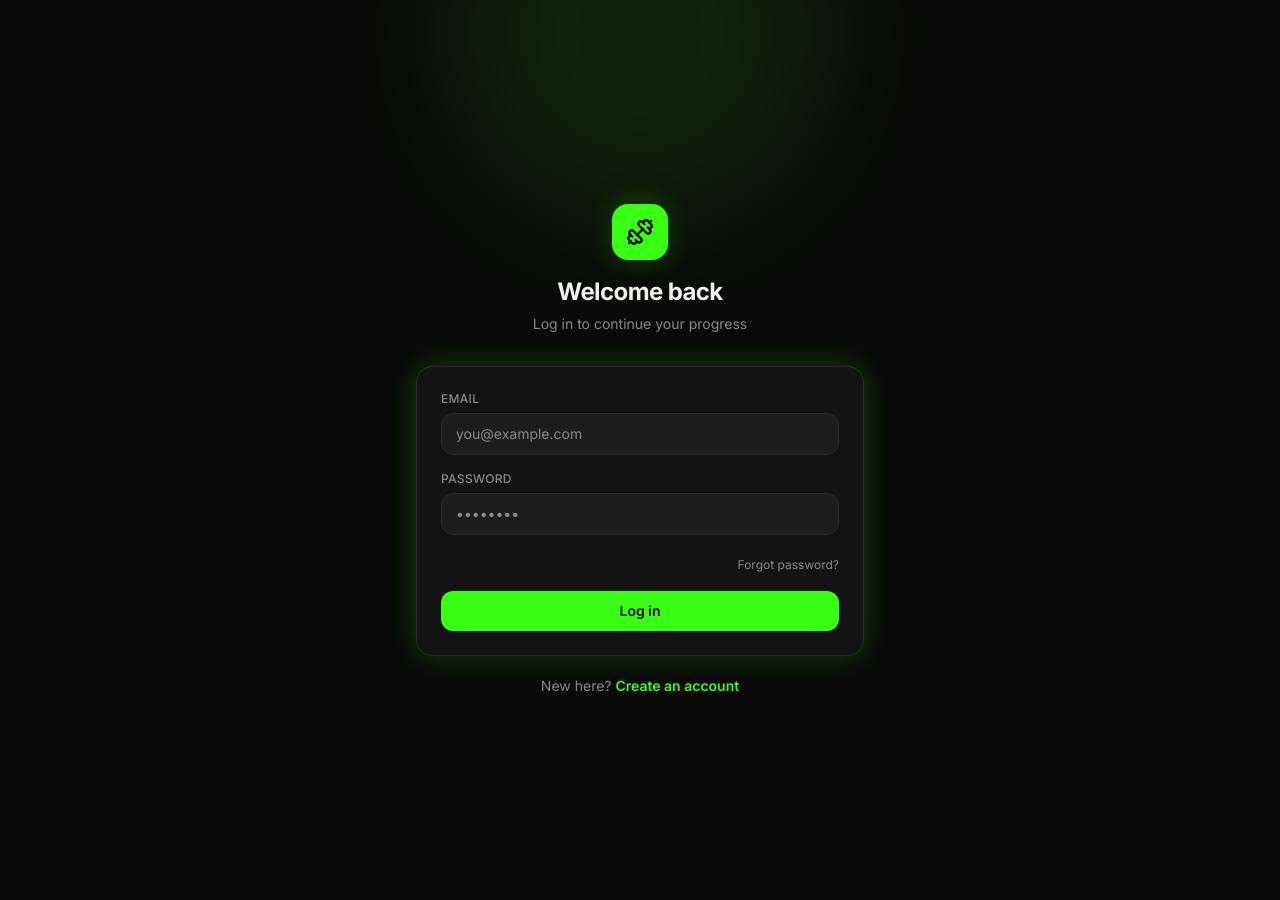
Test case: mutations › logged-out user is redirected to login and can sign in
Type "a@b.com" into the field with placeholder "you@example.com" at (640, 434), box [441,413,839,455]
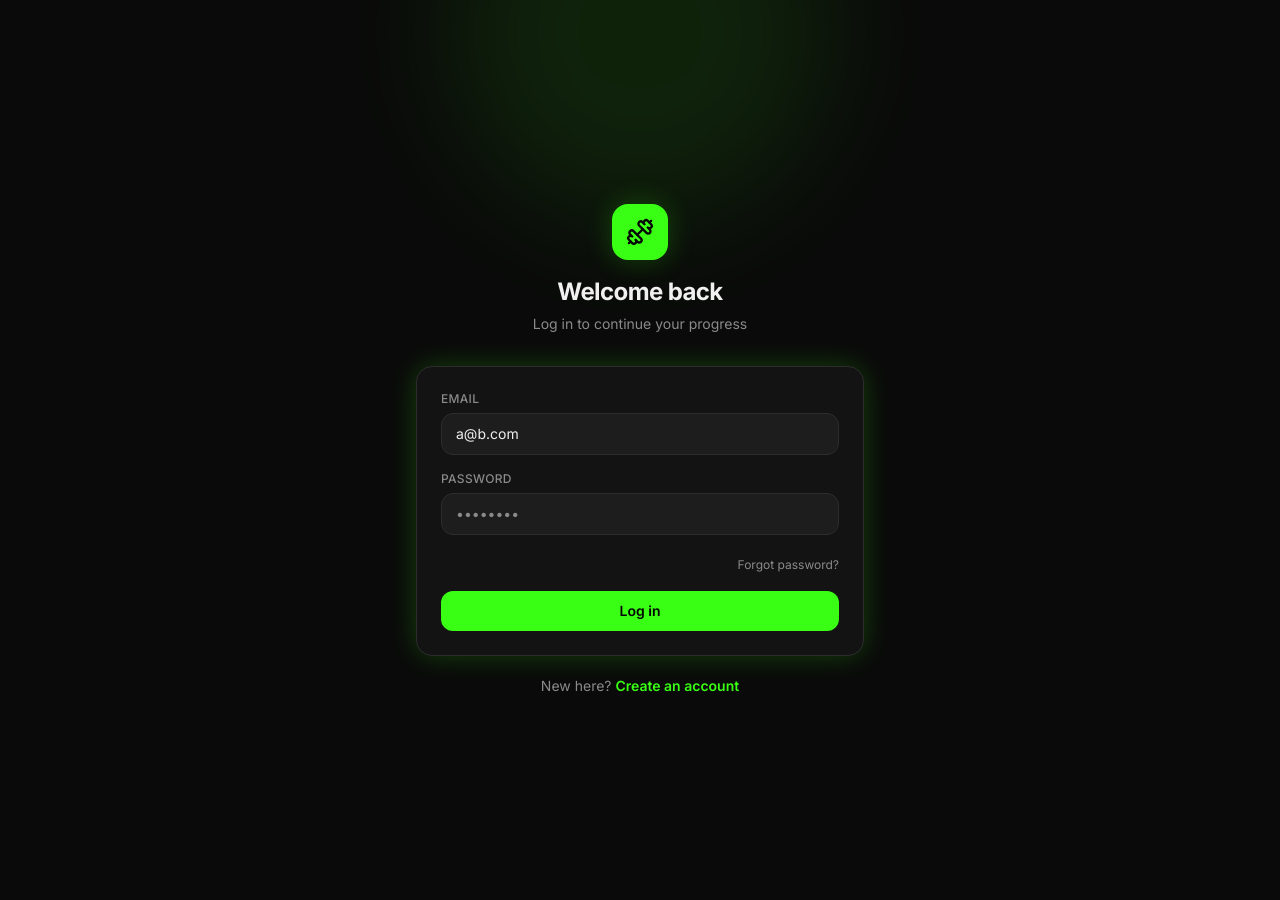
Type "secret123" into the password field with placeholder "••••••••" at (640, 514), box [441,493,839,535]
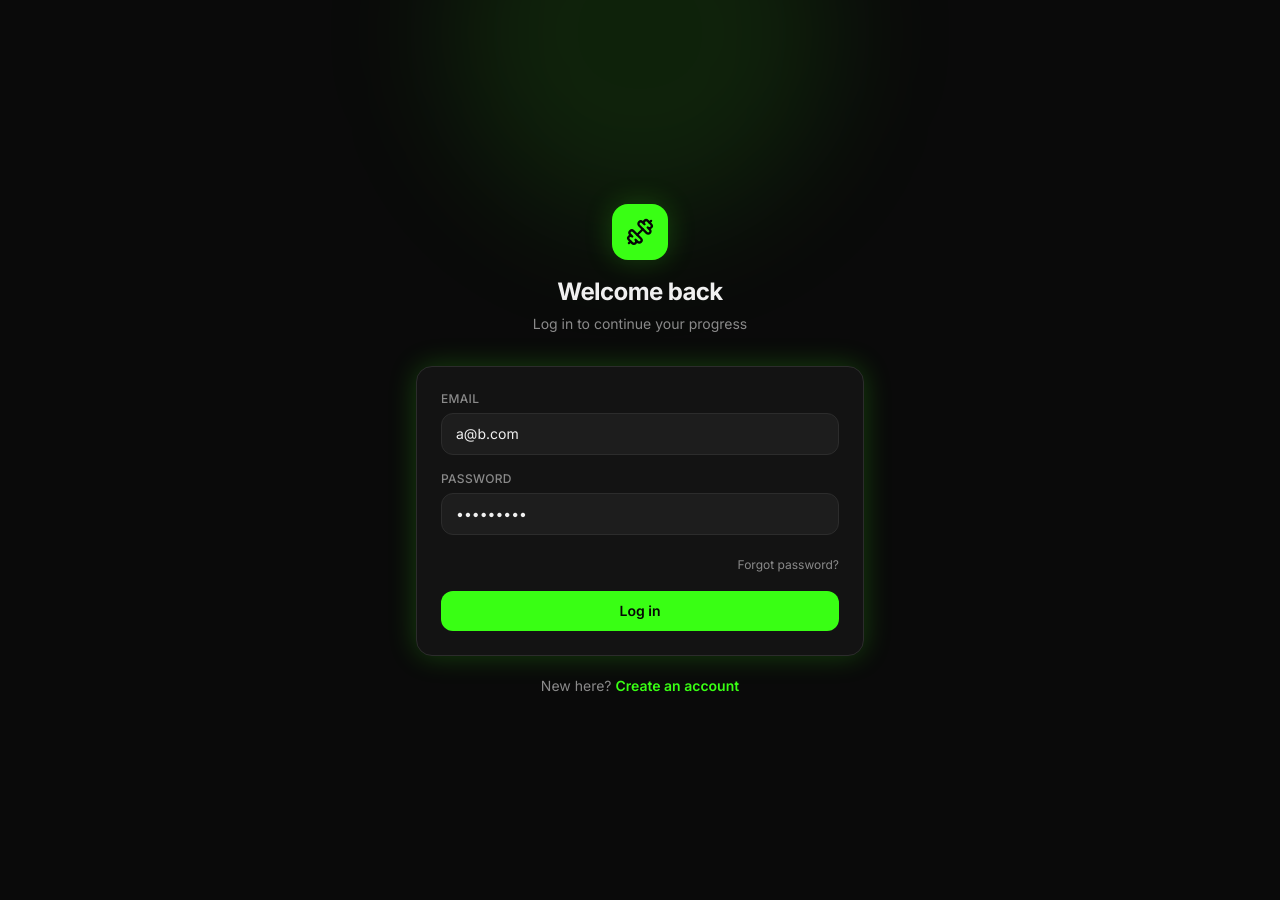
Click the button "Log in" at (640, 611), box [441,591,839,631]
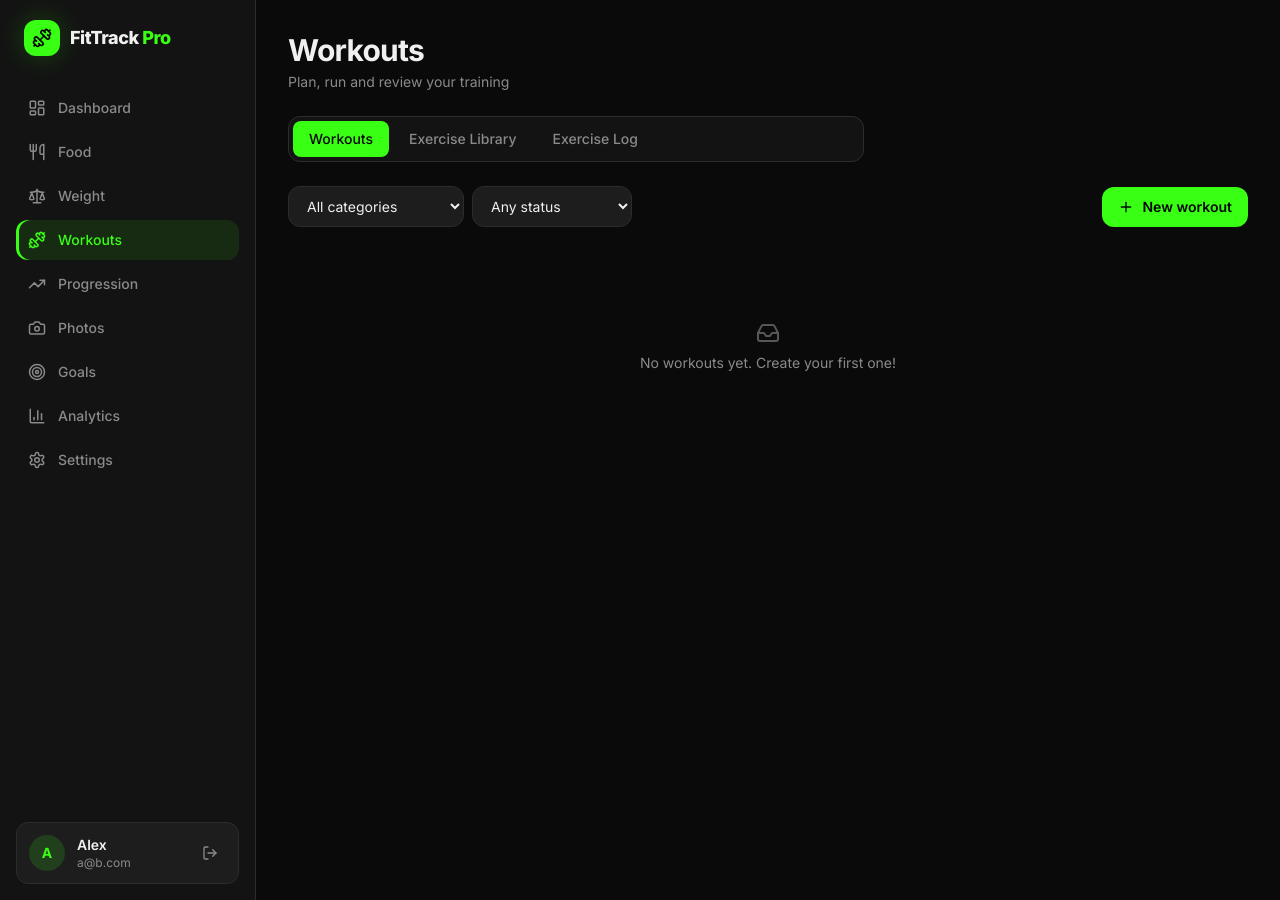
Now the text "Alex" is shown, box [77,836,107,853]
